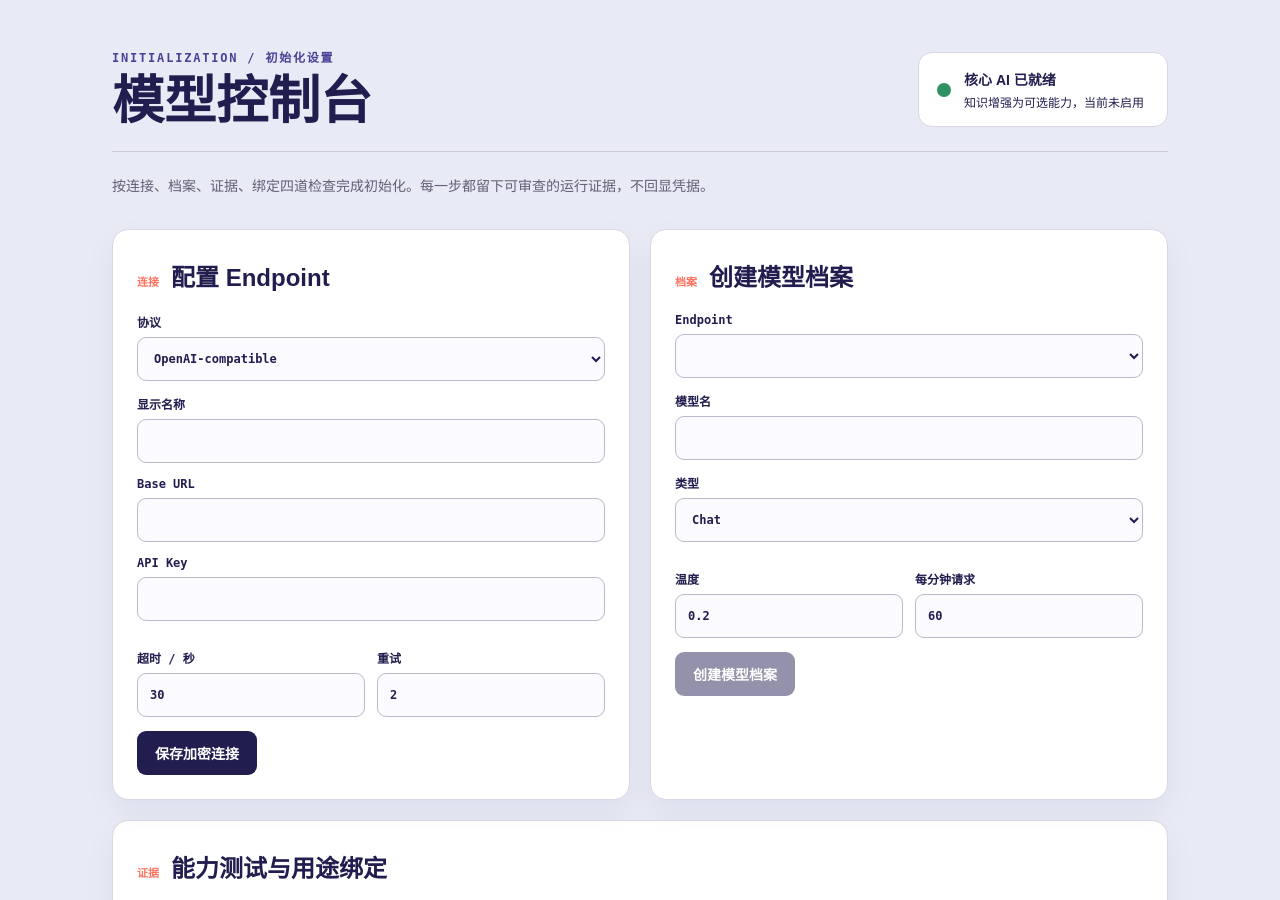
Test case: model initialization wizard › configures an endpoint without ever rendering the submitted key again
Step 1. Type "Gateway" into the field named "display_name" → (371, 441), box [137,419,605,463]
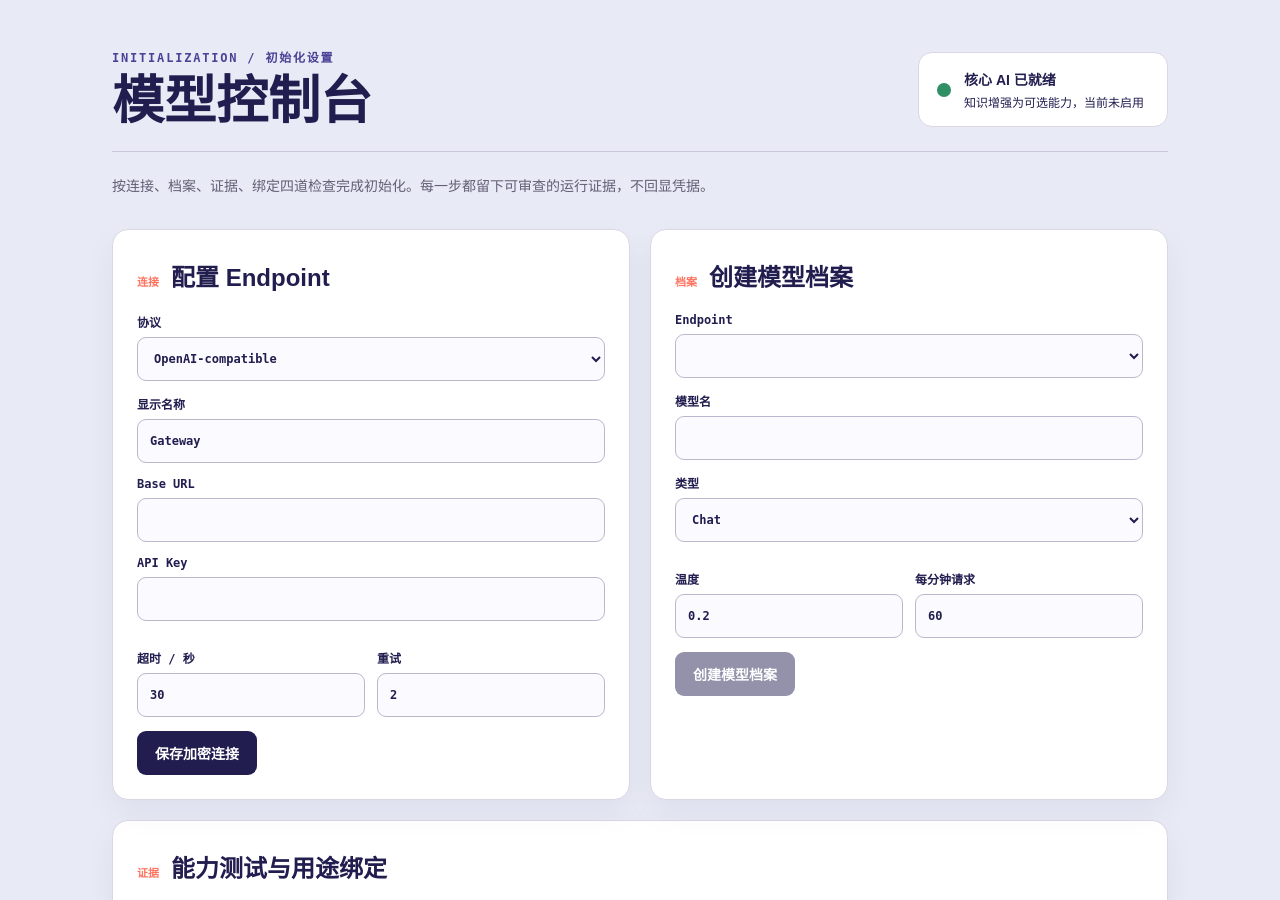
Step 2. Type "https://models.example/v1" into the field named "base_url" → (371, 520), box [137,498,605,542]
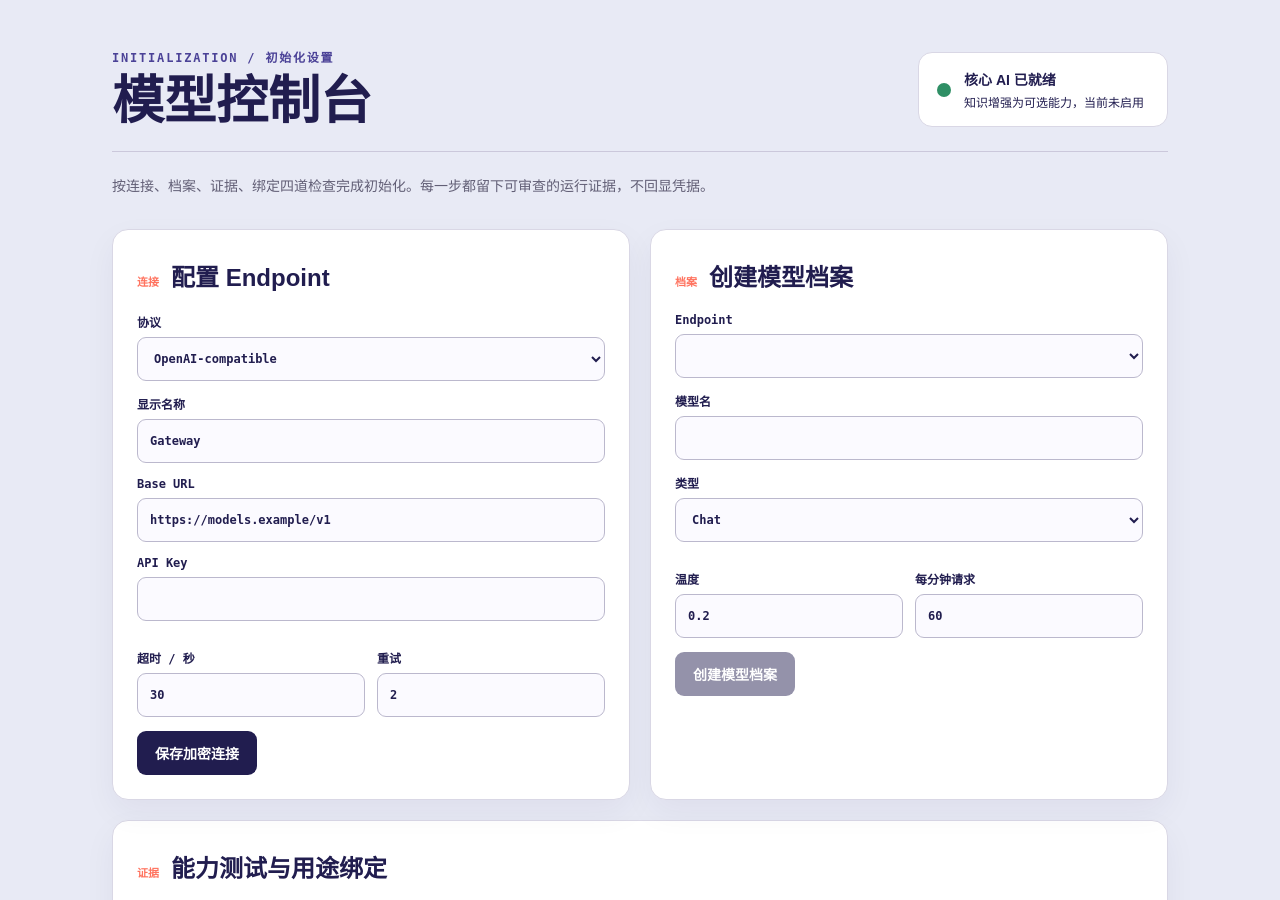
Step 3. Type "sk-api-9999" into the password field named "api_key" → (371, 599), box [137,577,605,621]
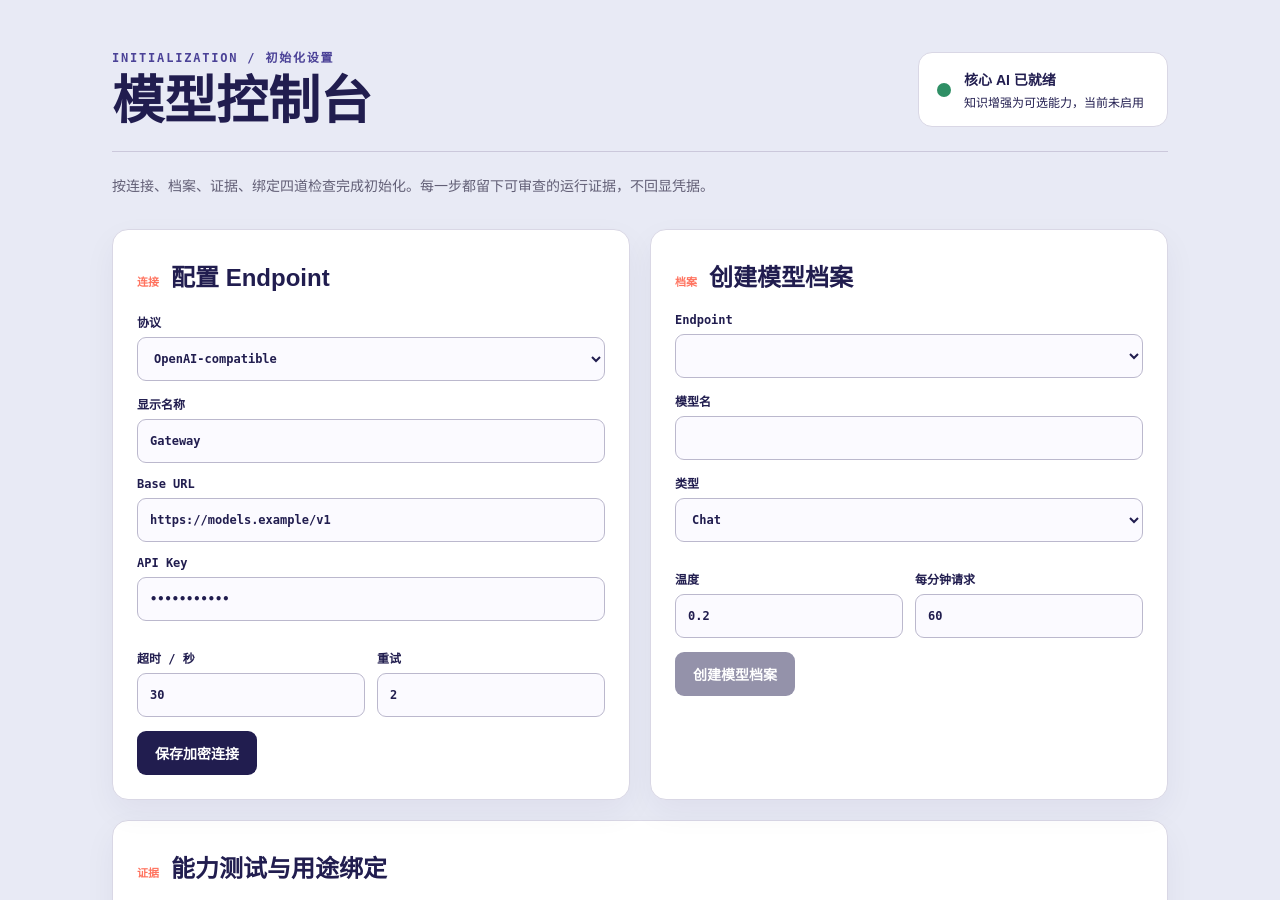
Step 4. Submit the form "连接 配置 Endpoint 协议 显示名称 Base URL API Key 超时 / 秒 重试 保存加密连接", box [112,229,630,800]
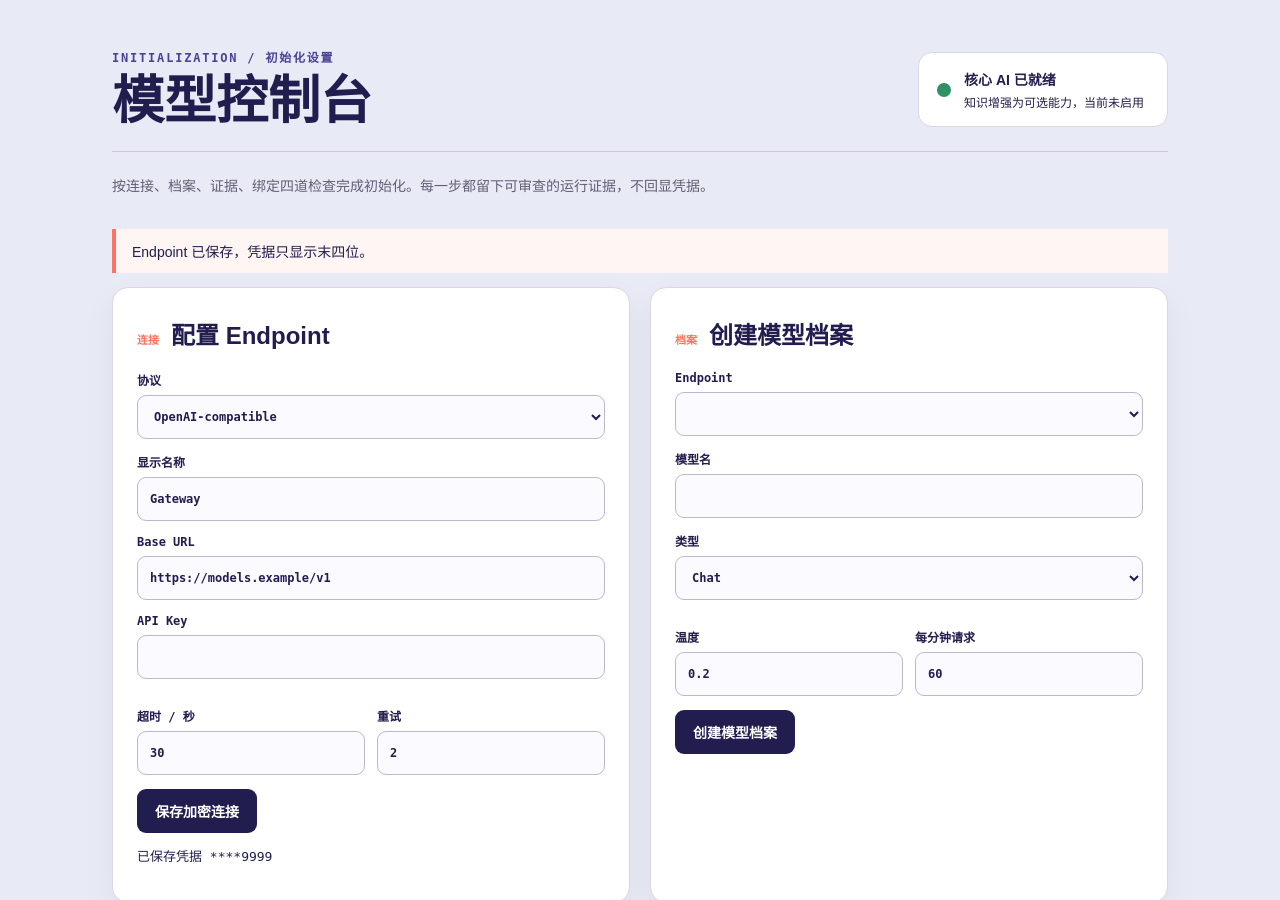
Expected: the text "创建模型档案" is shown, [709,316,853,351]
Result: the text "****9999" is shown at [210,849,272,864]
